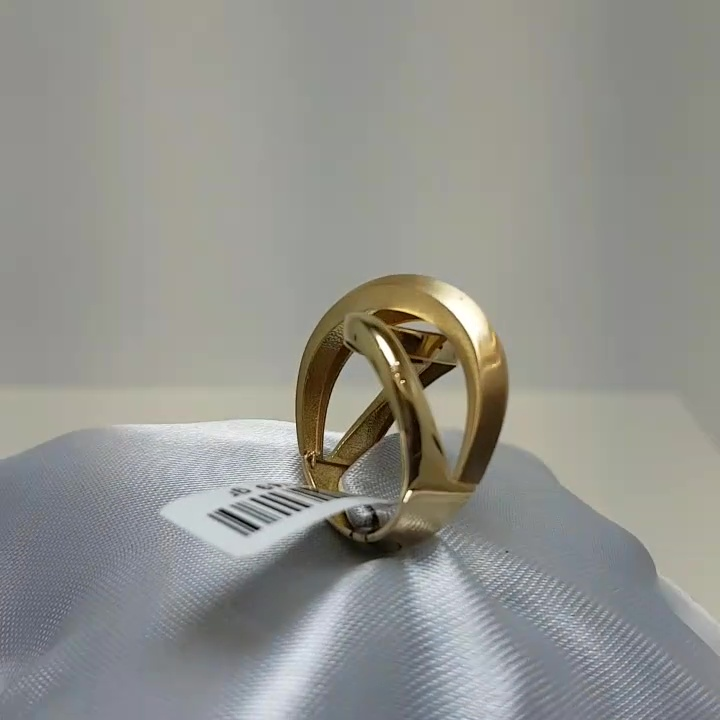Ring 3: (229, 264, 527, 556)
